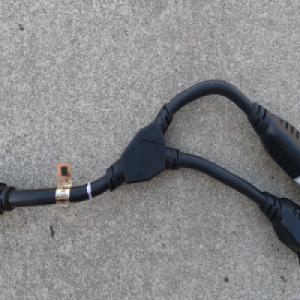Wire: (0, 76, 300, 260)
